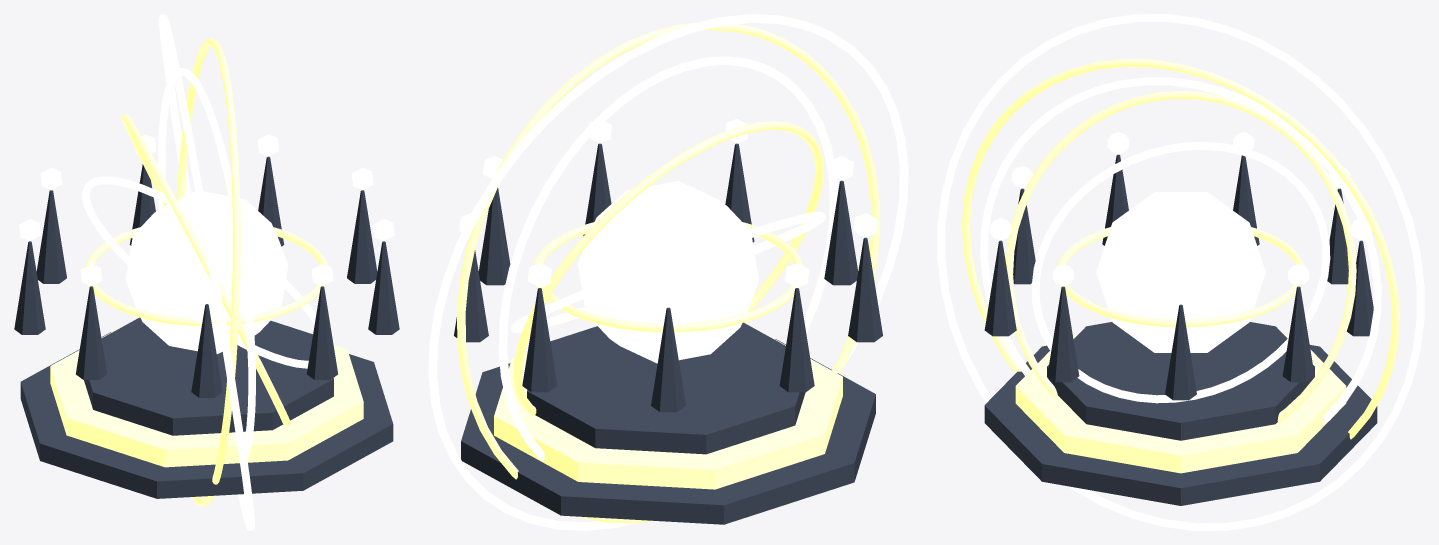
The model's file is gpu-blender-v46.glb.
The picture shows the model from 3 angles, left to right: view 1: azimuth 30°, elevation 25°; view 2: azimuth 150°, elevation 25°; view 3: azimuth 270°, elevation 25°; orthographic projection. The views are drawn at different scales.
Parts seen in each view (by area): view 1: Cylinder.002, Cylinder, SovereignCore_zothos-lite, Cylinder.001, Torus.005, Torus.004, Torus.003, Torus.001, Torus.002, Torus, Cone.006, Cone.004 (+7 smaller); view 2: Cylinder.002, SovereignCore_zothos-lite, Cylinder, Cylinder.001, Torus.005, Torus.004, Torus.003, Torus.002, Torus.001, Torus, Cone.003, Cone.005 (+7 smaller); view 3: SovereignCore_zothos-lite, Cylinder.002, Cylinder, Cylinder.001, Torus.005, Torus.004, Torus.003, Torus.002, Torus.001, Torus, Cone, Cone.001 (+7 smaller).
Boxes of the visible parts, <box> form: Cylinder.002: <box>84,317,333,435</box>; Cylinder: <box>20,332,393,498</box>; SovereignCore_zothos-lite: <box>125,191,288,353</box>; Cylinder.001: <box>50,324,363,467</box>; Torus.005: <box>159,14,254,530</box>; Torus.004: <box>176,38,240,506</box>; Torus.003: <box>158,68,255,459</box>; Torus.001: <box>82,176,316,368</box>; Torus.002: <box>122,114,290,426</box>; Torus: <box>85,227,327,326</box>; Cone.006: <box>191,304,222,397</box>; Cone.004: <box>14,241,45,334</box>; Cylinder.002: <box>527,322,805,454</box>; SovereignCore_zothos-lite: <box>578,181,758,363</box>; Cylinder: <box>461,339,875,524</box>; Cylinder.001: <box>494,330,842,489</box>; Torus.005: <box>428,14,908,530</box>; Torus.004: <box>457,22,879,523</box>; Torus.003: <box>498,56,838,461</box>; Torus.002: <box>513,121,823,415</box>; Torus.001: <box>511,211,825,333</box>; Torus: <box>533,222,803,332</box>; Cone.003: <box>651,307,685,412</box>; Cone.005: <box>848,237,882,342</box>; SovereignCore_zothos-lite: <box>1096,192,1265,352</box>; Cylinder.002: <box>1047,322,1314,440</box>; Cylinder: <box>984,345,1377,505</box>; Cylinder.001: <box>1015,334,1346,473</box>; Torus.005: <box>937,14,1424,530</box>; Torus.004: <box>962,59,1399,439</box>; Torus.003: <box>980,77,1381,423</box>; Torus.002: <box>1006,90,1356,423</box>; Torus.001: <box>1031,141,1330,403</box>; Torus: <box>1057,227,1304,327</box>; Cone: <box>1165,304,1196,400</box>; Cone.001: <box>1282,286,1314,382</box>.
Size of the model in its own units: 4.41 by 5.93 by 5.46.
